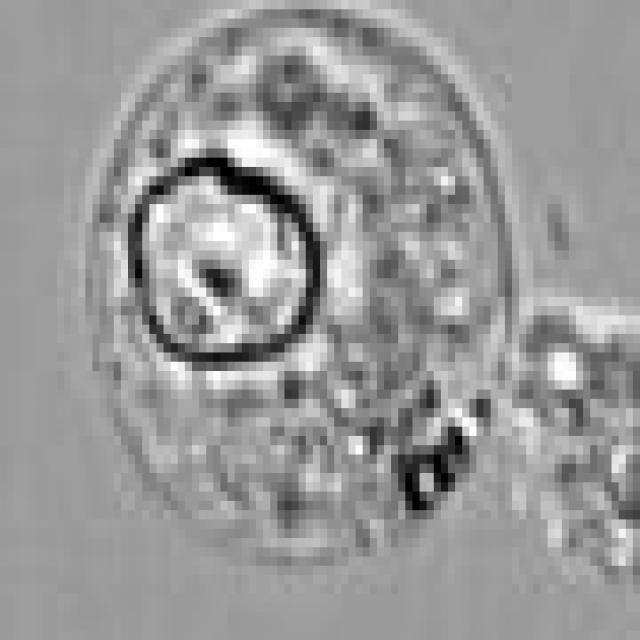Cancer Cell: (93, 9, 519, 566)
WBC: (512, 306, 640, 594)
